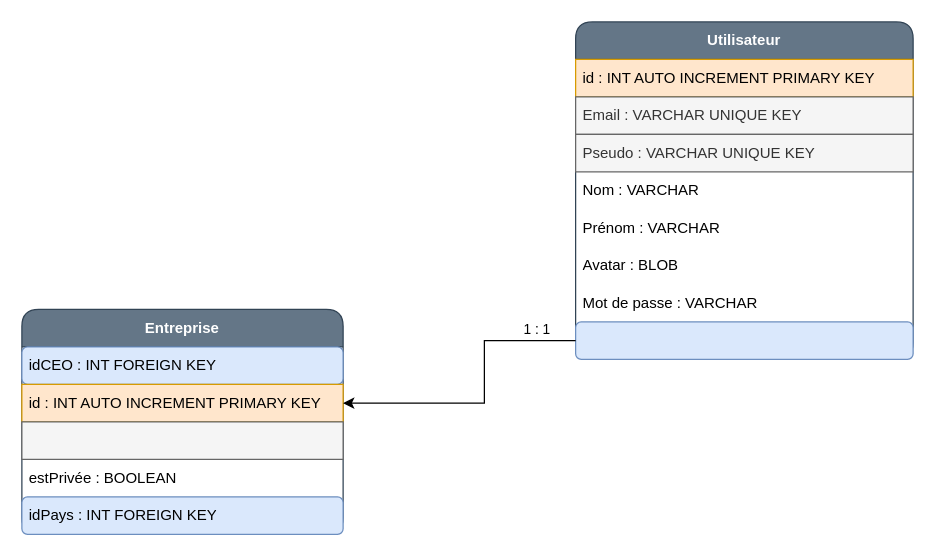
Image size: 935x556. Some labels were removed from this diagram. Each missing label, with the centre of its shape:
"idEntreprise : INT FOREIGN KEY" belongs at (743,340).
"Nom : VARCHAR UNIQUE KEY" belongs at (182,440).
